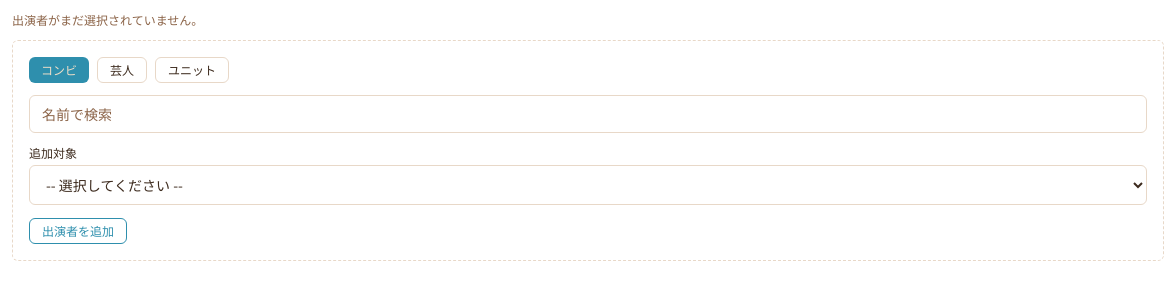
Test case: CastSelector › 対象未選択のまま追加するとエラーが表示される
The width and height of the screenshot is (1164, 306).
Click the button "出演者を追加". click: (78, 231)
box: x1=29 y1=218 x2=127 y2=244
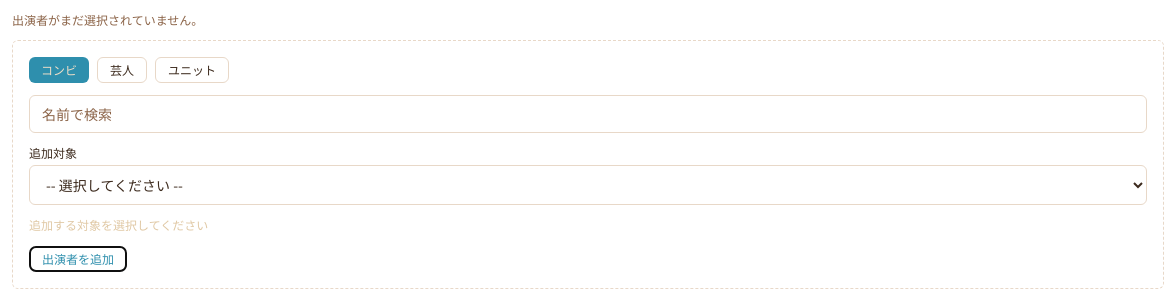
Now the message reads "追加する対象を選択してください", box x1=29 y1=216 x2=208 y2=233
